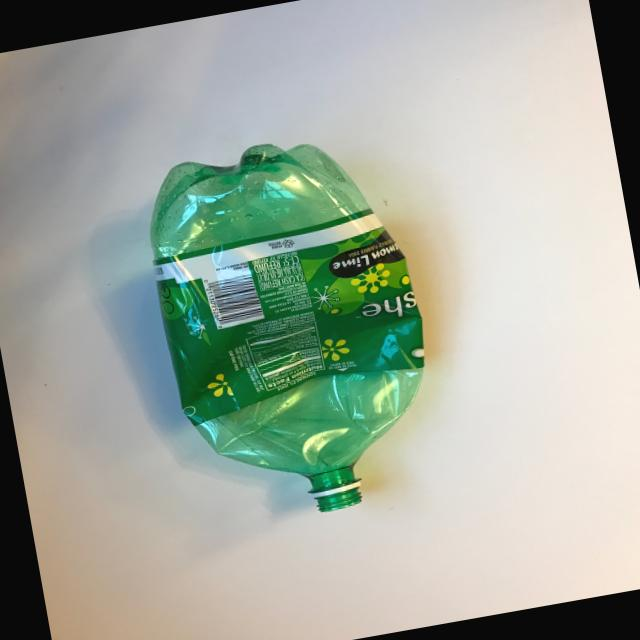Plastic: (92, 109, 490, 583)
